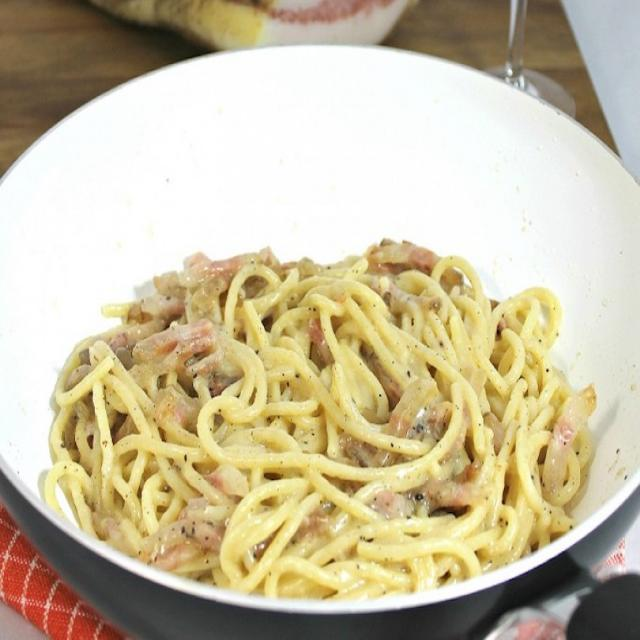Pasta with carbonara sauce: (30, 187, 638, 637)
